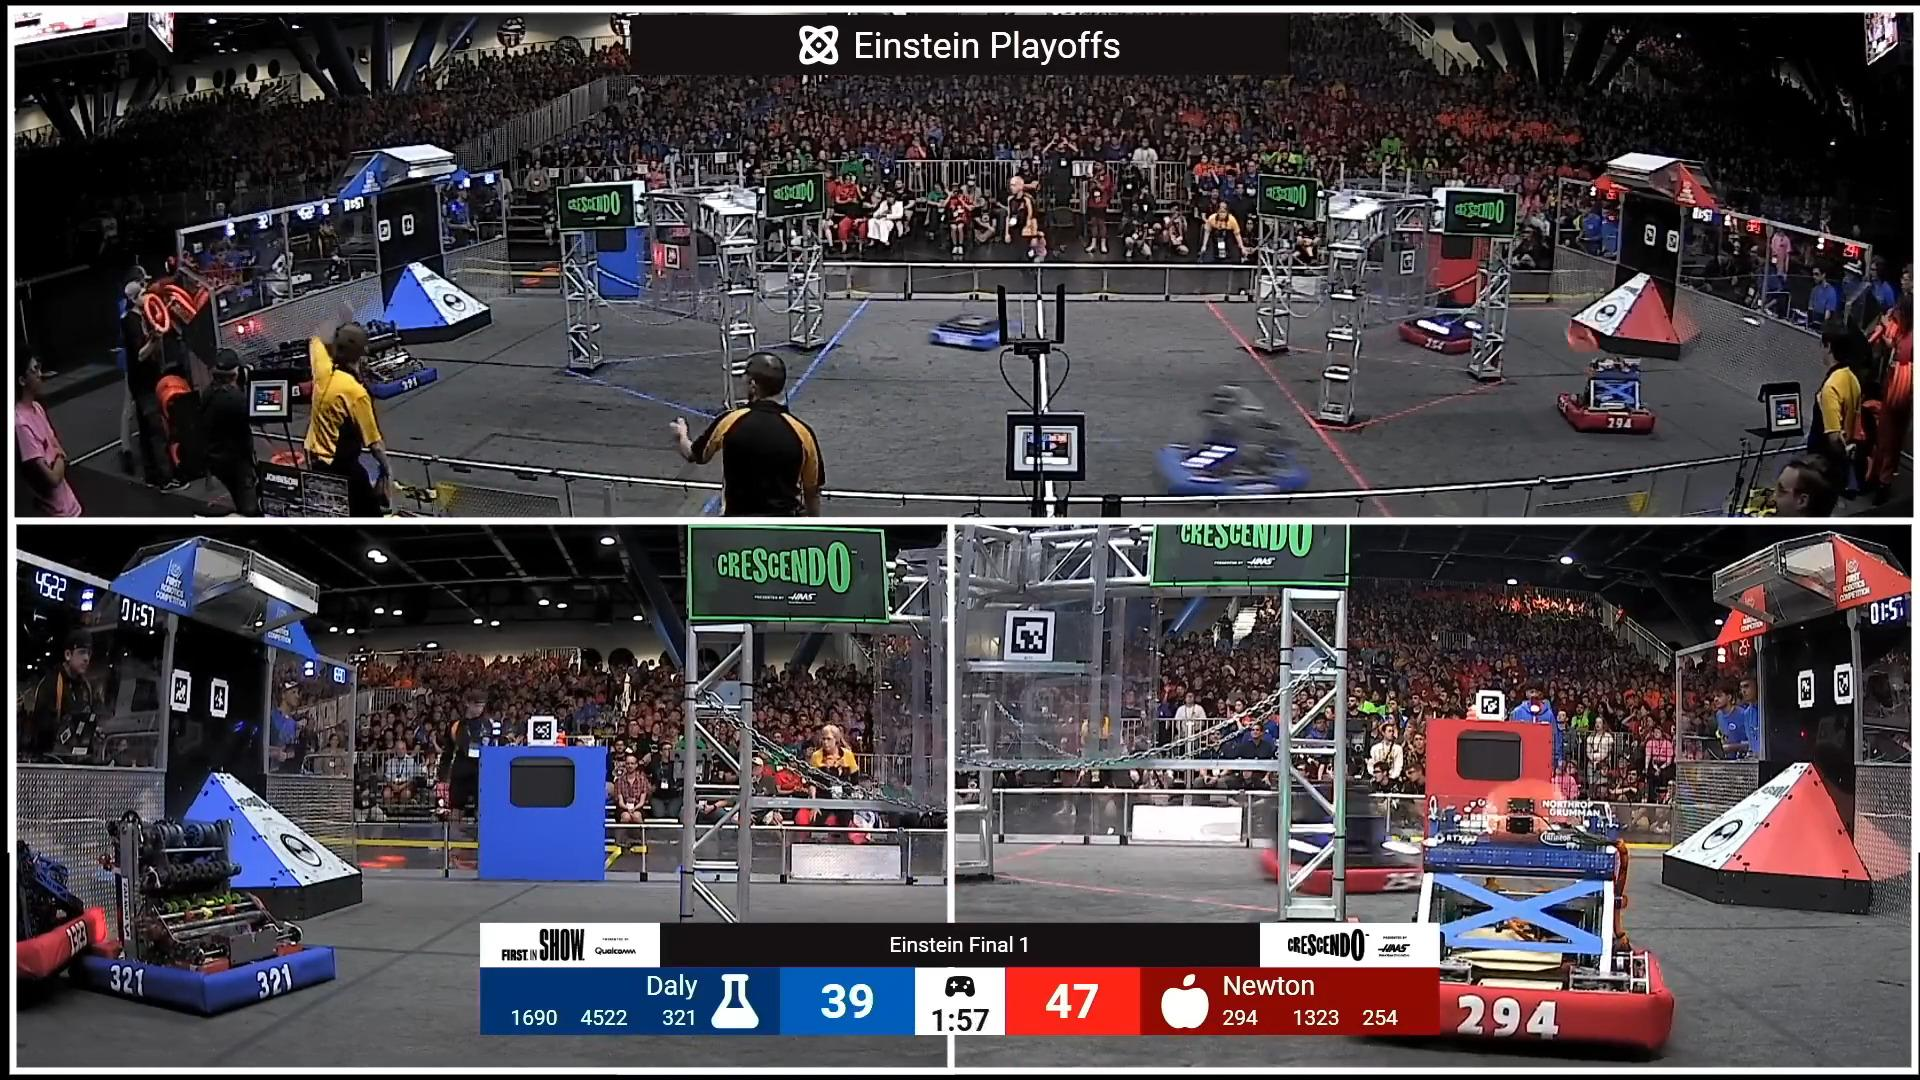blue_idle: (82, 796, 357, 1023), (1153, 384, 1309, 496), (340, 306, 440, 397), (922, 295, 1029, 372)
note: (1552, 314, 1609, 357)
red_idle: (1266, 754, 1418, 906), (1396, 298, 1501, 356)
red_shooting: (1389, 771, 1695, 1055), (1552, 357, 1665, 447)
